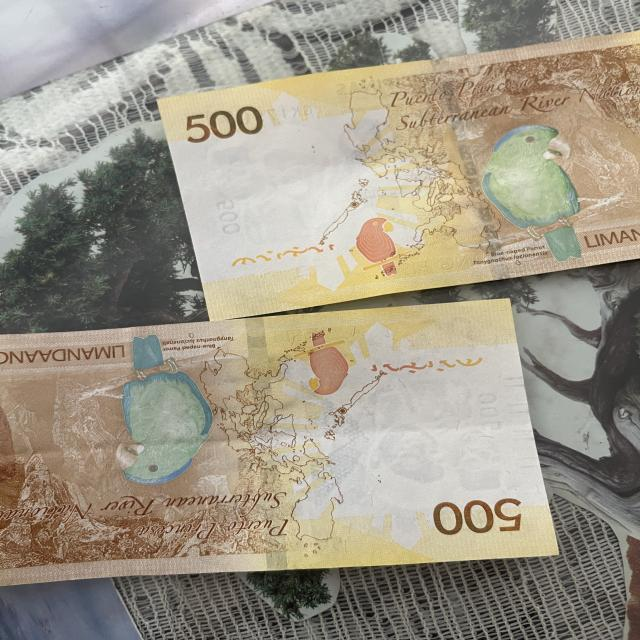500_big_parrot: (477, 120, 593, 260), (111, 336, 216, 485)
500_parrot_watermark: (296, 330, 355, 399), (353, 215, 410, 274)
value_watermark: (474, 393, 509, 434), (215, 196, 246, 238)
watermark: (200, 135, 352, 246), (365, 386, 512, 497)
